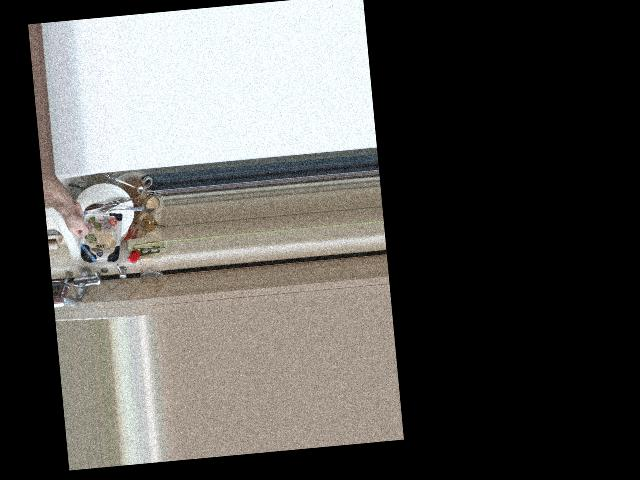cheese: (63, 200, 125, 269)
